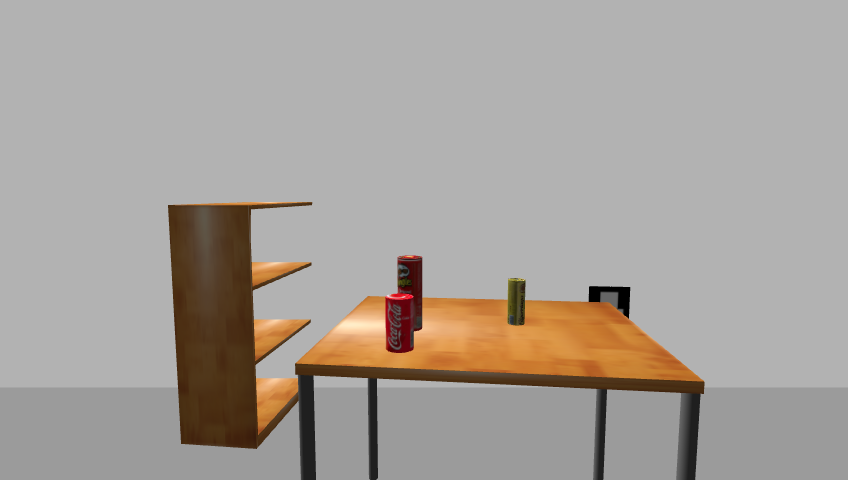aruco marker: (584, 285, 635, 321)
biscuits pack: (507, 278, 527, 327)
bookshelf: (163, 200, 319, 451)
coke can: (384, 293, 419, 353)
dinner table: (290, 295, 711, 479)
pringles can: (396, 255, 424, 333)
